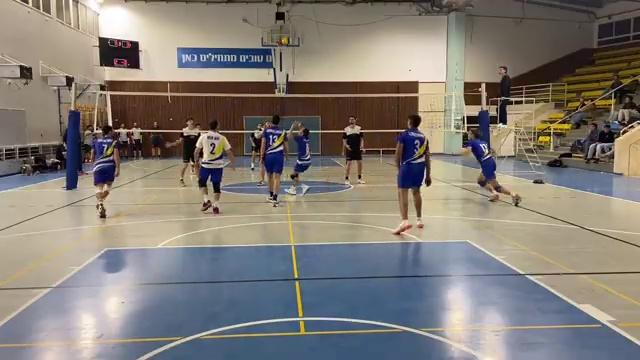ball: (279, 37, 293, 49)
